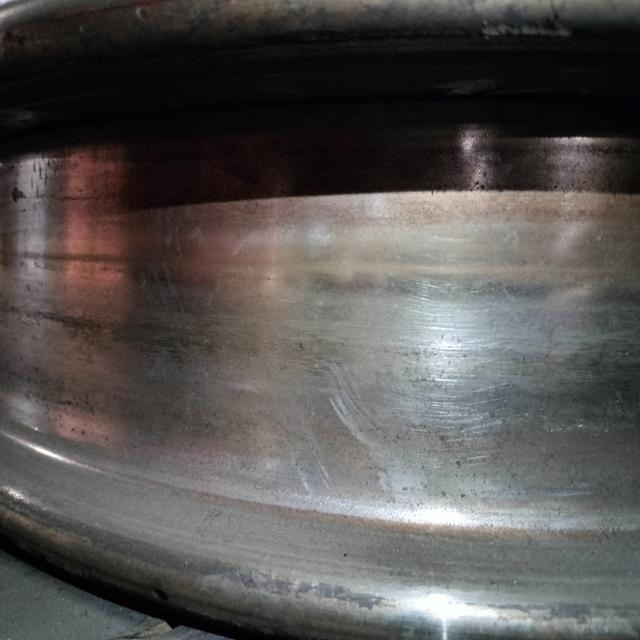Contact_Fatigue_Cracks: (324, 237, 628, 408)
